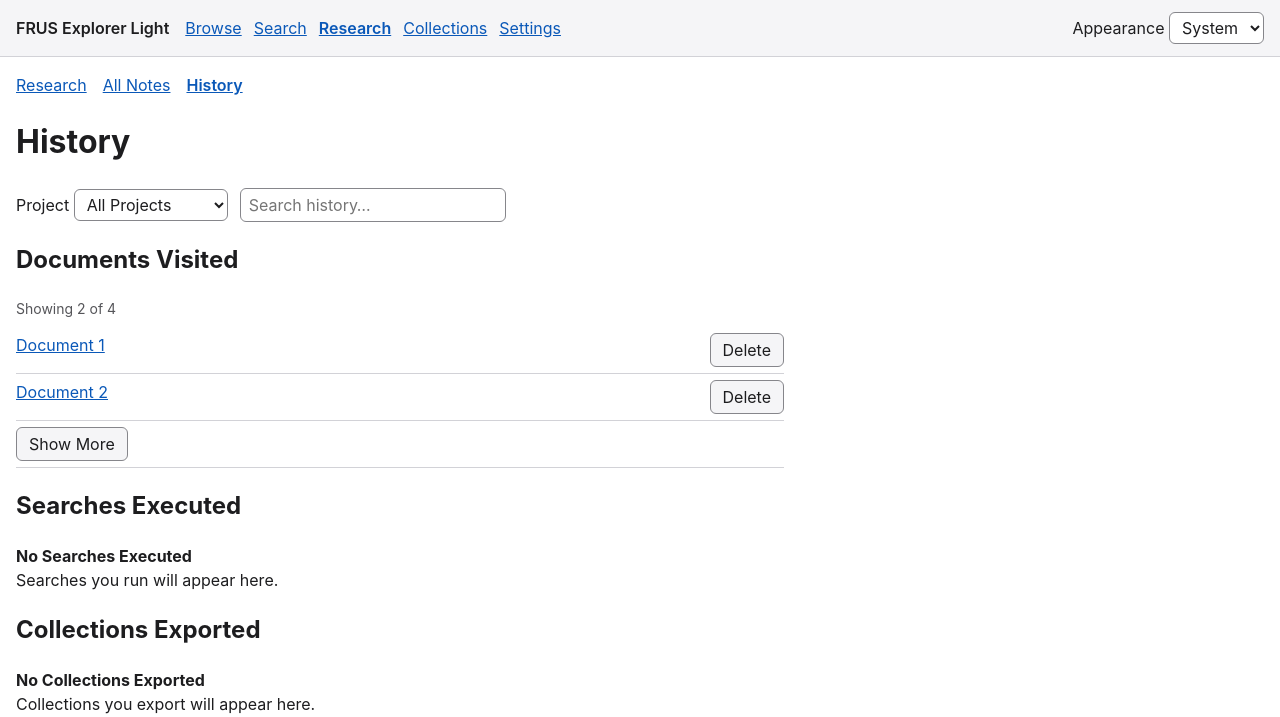
History’s Show More and its way in › keeps the focus on Show More as the next rows come
Click the button "Show More".
click(72, 444)  # box [16,427,128,461]
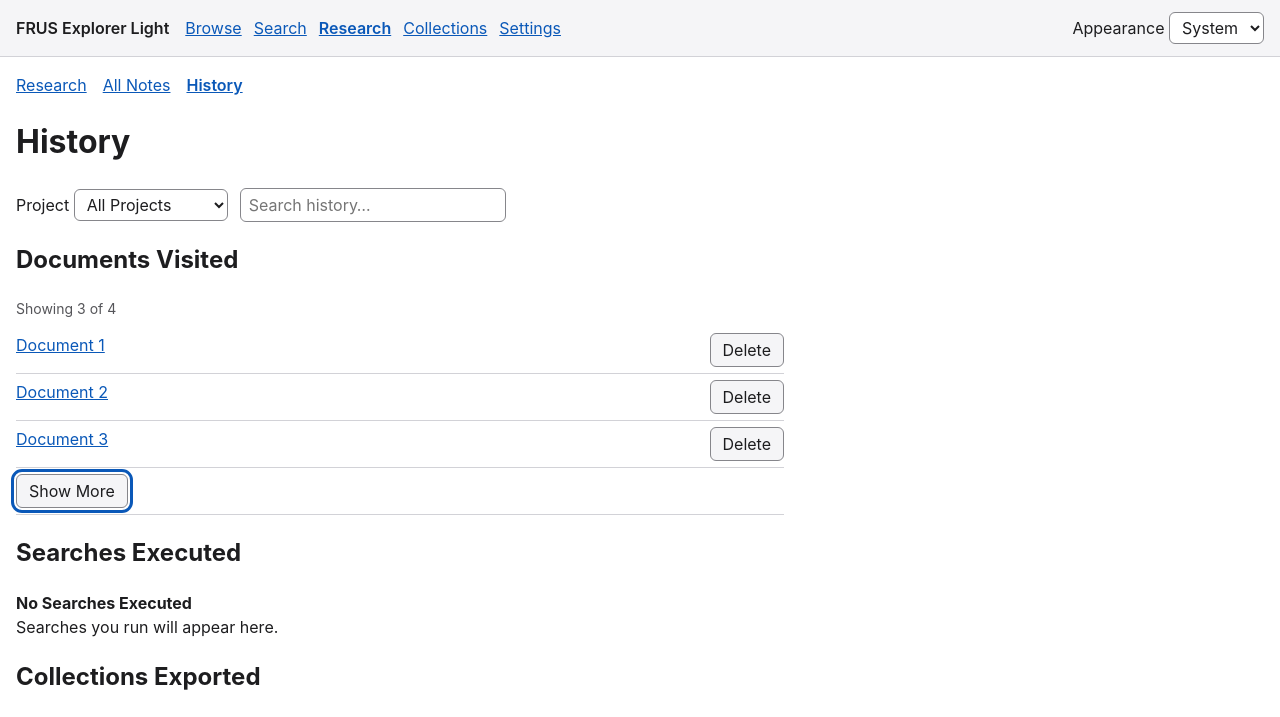
Result: the link "Document 3" is shown at [16,427,108,451]
